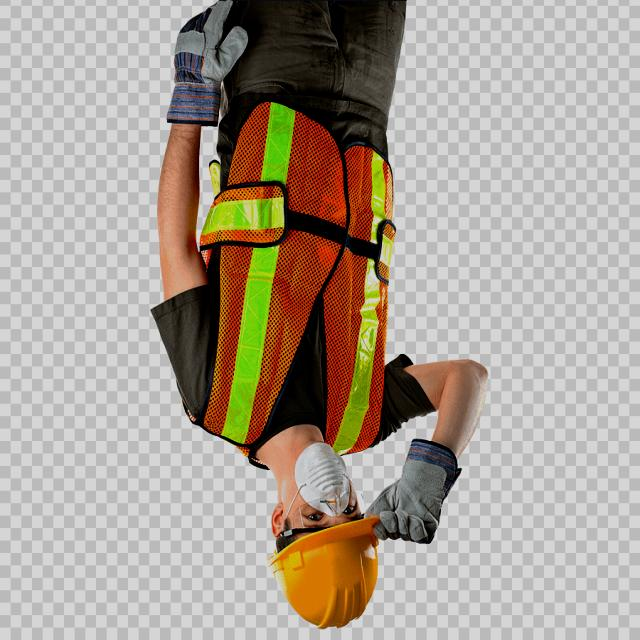Gloves: (366, 427, 468, 547), (163, 0, 250, 132)
Hard Hat: (266, 516, 384, 634)
Reflective Vest: (195, 122, 392, 460)
Safety Glasses: (275, 497, 359, 533)
